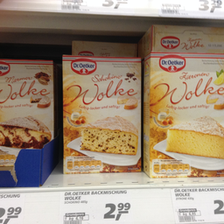cake: (144, 51, 224, 183), (61, 54, 142, 173), (1, 57, 54, 173)
